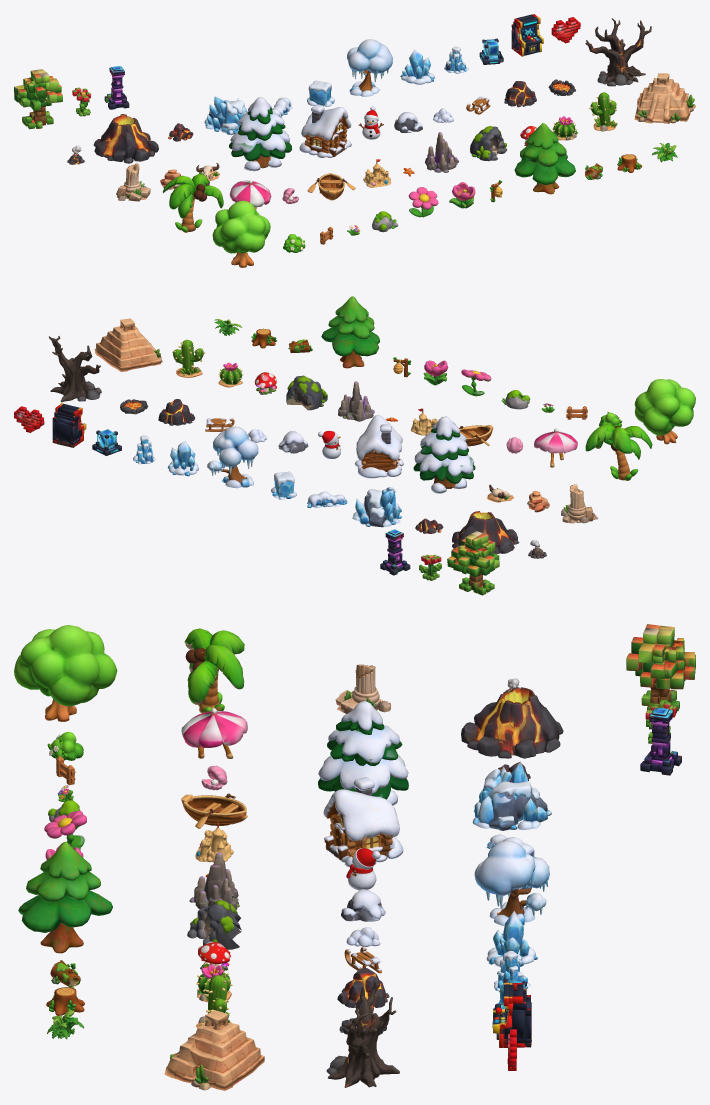
File: Decor.glb
3 views of the same model, one above another, from view 1: azimuth 30°, elevation 25°; view 2: azimuth 150°, elevation 25°; view 3: azimuth 270°, elevation 25° (orthographic). The views are drawn at different scales.
Visible parts, largest first — view 1: Prop__SnowyPine, Prop__Tree, Prop__Pine, Prop__Pyramid, Prop__Cabin, Prop__MiniVolcano, Prop__BurntTree, Prop__PixelTree, Prop__PalmTree, Prop__FrozenTree, Prop__IcePillar, Prop__ArcadeScreen (+19 smaller); view 2: Prop__SnowyPine, Prop__Tree, Prop__Pine, Prop__Cabin, Prop__Pyramid, Prop__PixelTree, Prop__FrozenTree, Prop__PalmTree, Prop__BurntTree, Prop__IcePillar, Prop__MiniVolcano, Prop__ArcadeScreen (+17 smaller); view 3: Prop__Tree, Prop__Pine, Prop__SnowyPine, Prop__MiniVolcano, Prop__Pyramid, Prop__Cabin, Prop__FrozenTree, Prop__PixelTree, Prop__PalmTree, Prop__IcePillar, Prop__BurntTree, Prop__Umbrella (+17 smaller).
Boxes of the visible parts, x1,y1,x2,y2 form: Prop__SnowyPine: (229, 97, 291, 171); Prop__Tree: (212, 200, 270, 267); Prop__Pine: (514, 123, 575, 194); Prop__Pyramid: (634, 73, 695, 123); Prop__Cabin: (299, 104, 351, 157); Prop__MiniVolcano: (93, 114, 158, 163); Prop__BurntTree: (585, 18, 651, 86); Prop__PixelTree: (14, 69, 62, 129); Prop__PalmTree: (163, 174, 223, 232); Prop__FrozenTree: (347, 39, 392, 96); Prop__IcePillar: (204, 96, 247, 135); Prop__ArcadeScreen: (511, 14, 543, 56); Prop__SnowyPine: (413, 416, 475, 493); Prop__Tree: (634, 379, 695, 444); Prop__Pine: (321, 296, 379, 368); Prop__Cabin: (354, 415, 403, 478); Prop__Pyramid: (94, 318, 162, 371); Prop__PixelTree: (447, 531, 499, 595); Prop__FrozenTree: (207, 426, 258, 488); Prop__PalmTree: (585, 424, 652, 480); Prop__BurntTree: (49, 336, 101, 402); Prop__IcePillar: (352, 487, 401, 527); Prop__MiniVolcano: (452, 511, 519, 553); Prop__ArcadeScreen: (52, 403, 86, 447); Prop__Tree: (14, 625, 117, 721); Prop__Pine: (18, 842, 112, 953); Prop__SnowyPine: (318, 701, 408, 805); Prop__MiniVolcano: (461, 687, 563, 758); Prop__Pyramid: (164, 1010, 264, 1090); Prop__Cabin: (323, 777, 403, 867); Prop__FrozenTree: (474, 840, 549, 925); Prop__PixelTree: (626, 624, 695, 713); Prop__PalmTree: (184, 628, 244, 713); Prop__IcePillar: (472, 761, 551, 830); Prop__BurntTree: (326, 981, 399, 1087); Prop__Umbrella: (181, 708, 247, 758).
Bounding box in the file's own units: 153 × 18 × 110.
9 materials, 9 textured.
